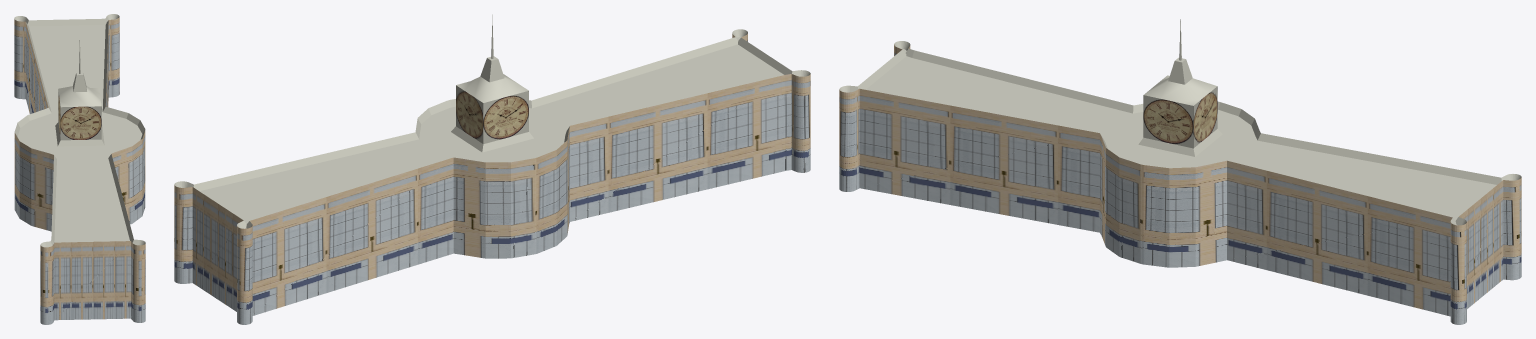
Rendered from huochezhan.gltf.
3 views of the same model, side by side, from view 1: azimuth 30°, elevation 25°; view 2: azimuth 150°, elevation 25°; view 3: azimuth 270°, elevation 25° (orthographic). The views are drawn at different scales.
Parts seen in each view (by area): view 1: dx42; view 2: dx42; view 3: dx42.
Part boxes in pixels (left/top/right/bottom): dx42: left=14, top=14, right=145, bottom=324; dx42: left=174, top=14, right=810, bottom=324; dx42: left=839, top=19, right=1521, bottom=324.
Size of the model in its own units: 740 by 409 by 1156.
Materials: 5 (5 with a texture image).
